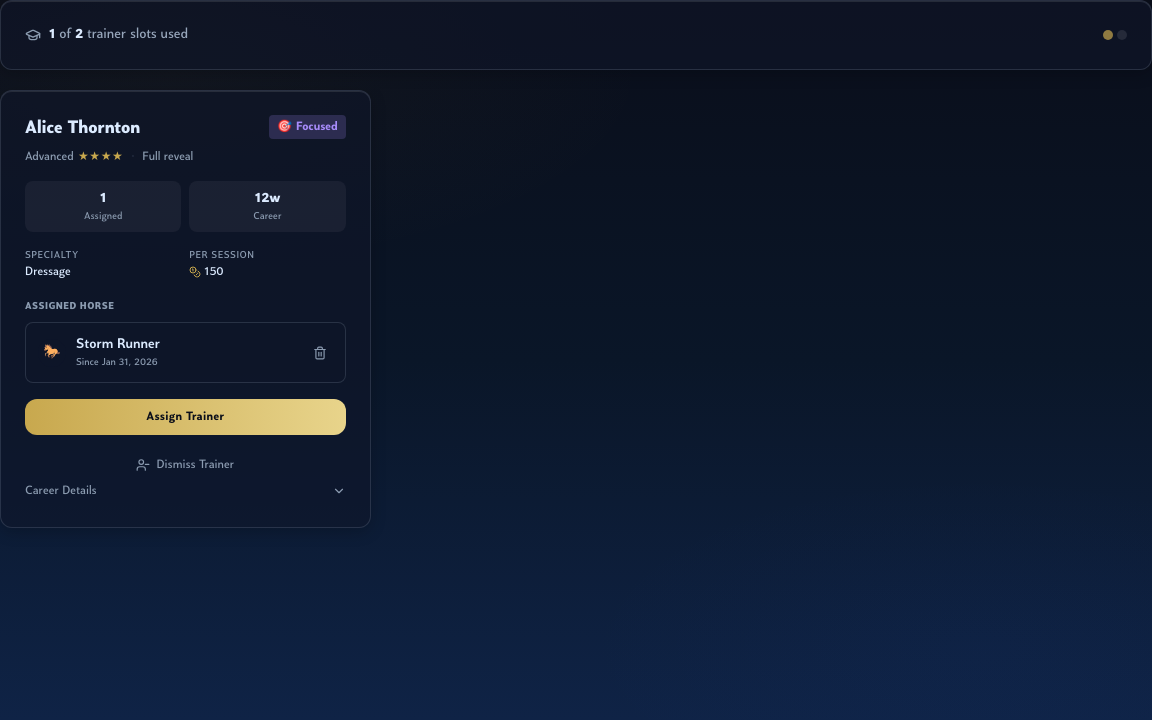
Test: MyTrainersDashboard — silent-mutation feedback (Equoria-u96fm) › a failed unassign shows an announced error beside the control (no raw server leak)
This screenshot has width=1152, height=720.
Check: the element with test id "trainer-grid" is shown, box [0,90,371,528]
// The assignment row's Trash2 control (aria-label "Unassign trainer").
Click the button named "unassign trainer" at (320, 352), box [307,340,333,366]
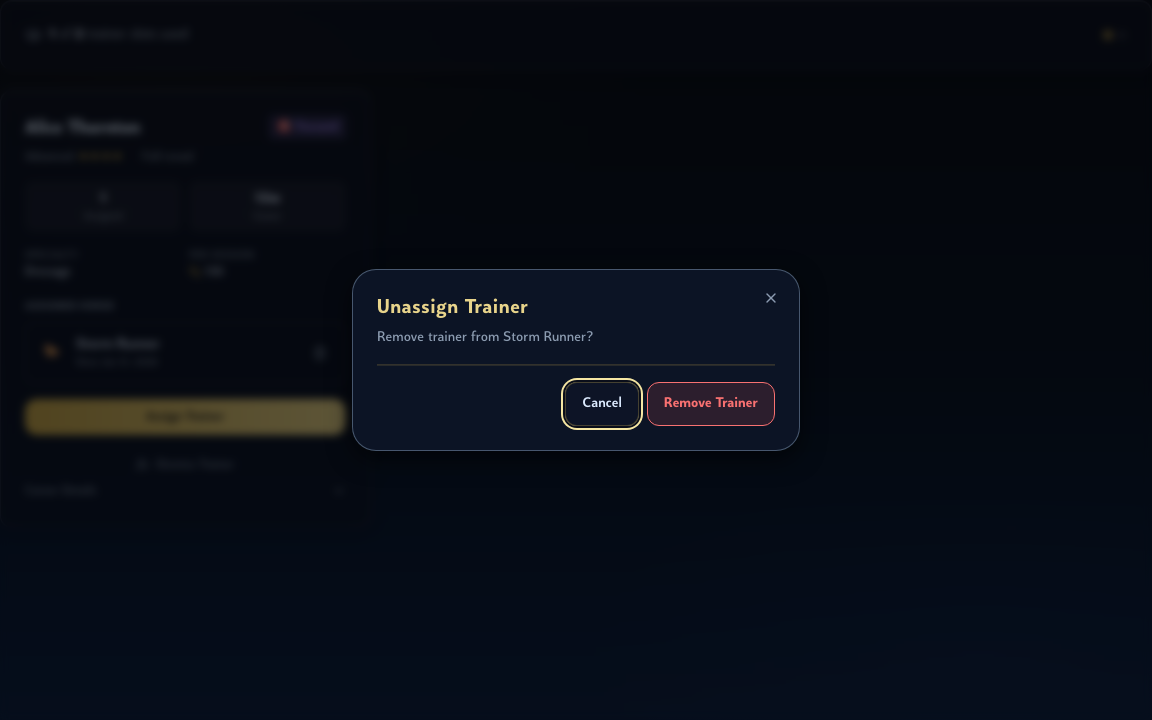
// Confirm in the dialog (destructive button text is "Remove Trainer").
Click the button "Remove Trainer" at (711, 404), box [647,382,775,426]
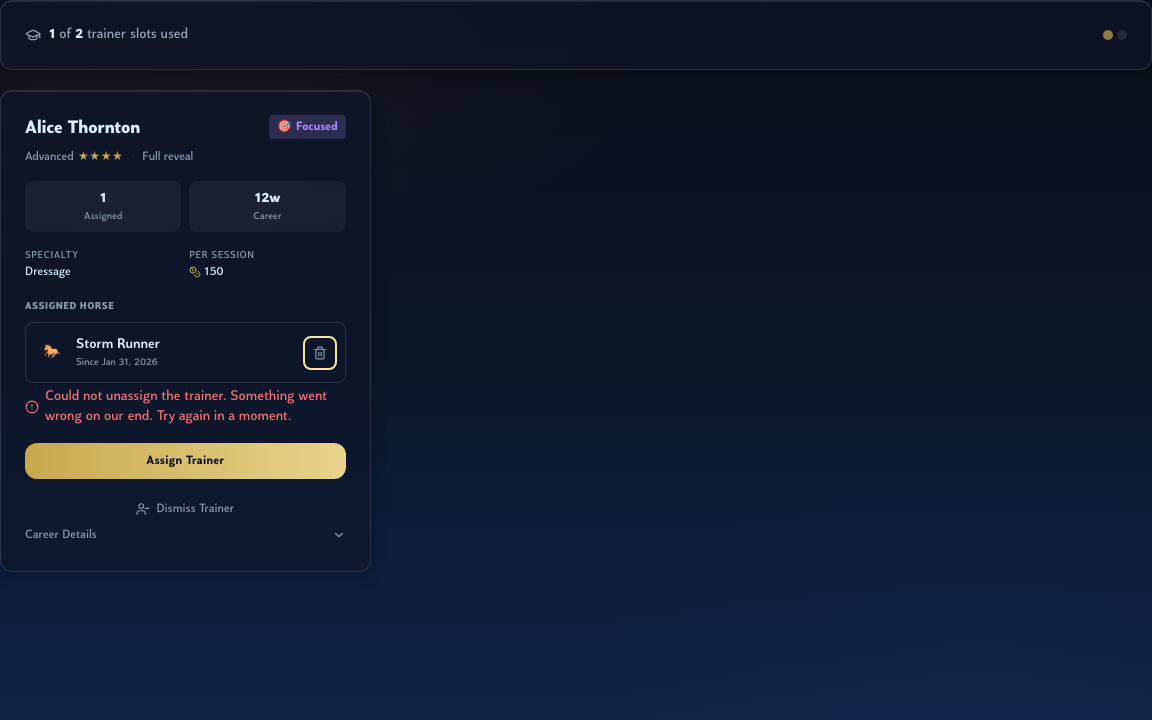
Check: the text "Could not unassign the trainer" is shown, box [45,389,327,424]
